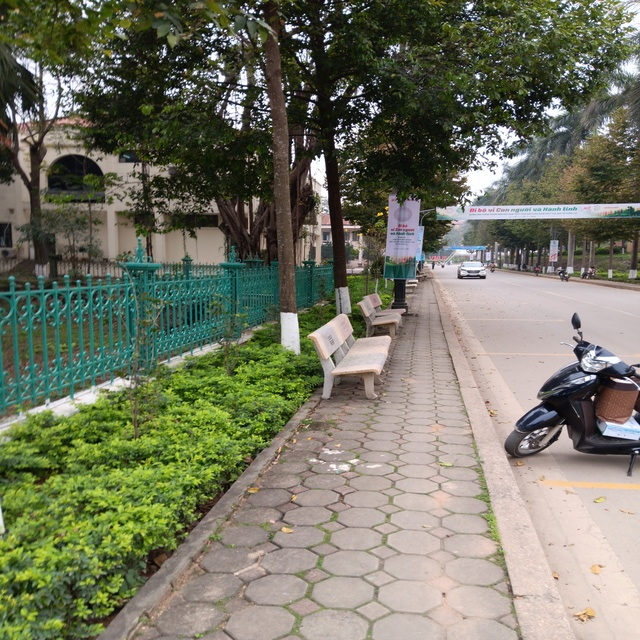gheda: (305, 326, 391, 404), (331, 308, 409, 372), (354, 296, 401, 352), (369, 289, 407, 325)
